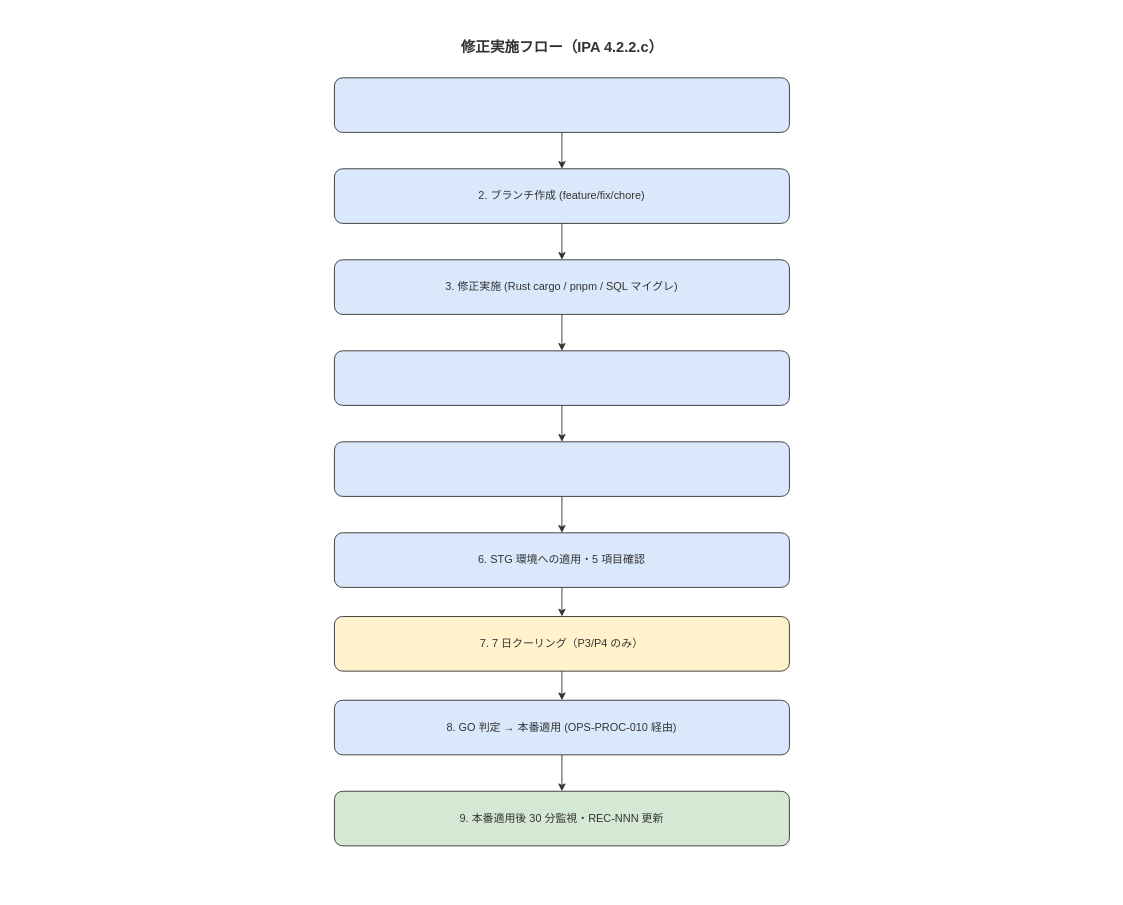
Some shapes in this 1123 by 905 pixel diagram are drawn without their labels. The shapes that lost their labels are listed below. From the top down, each one's centre as x and y in pixels, then its label:
At point 561,104: "1. CR-OPS-NNN 起票・変更要求確定".
At point 561,377: "4. 自動テスト実行 (cargo test / pnpm test)".
At point 561,468: "5. ALCOA+ / ハッシュチェーン整合確認".
